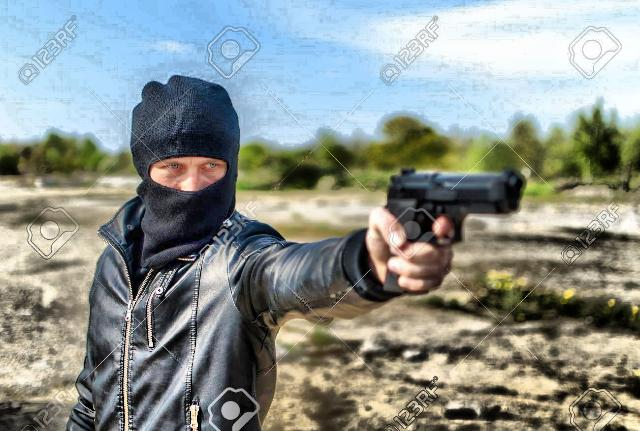pistol: (370, 166, 526, 294)
